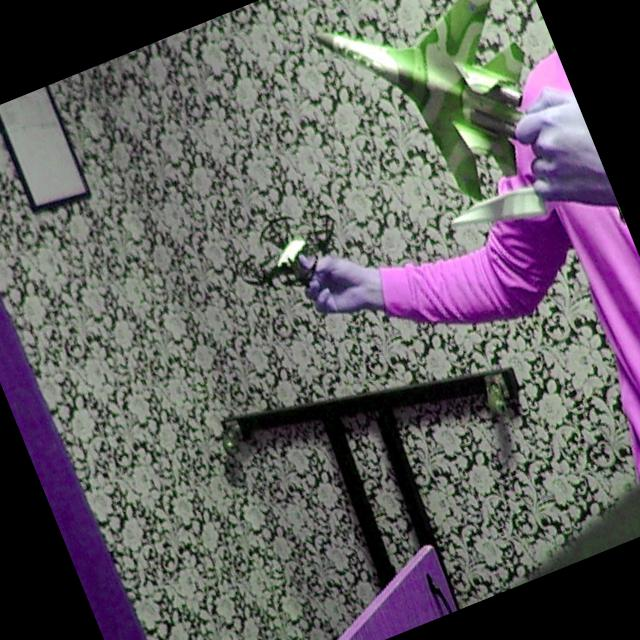drone: (207, 174, 362, 328)
